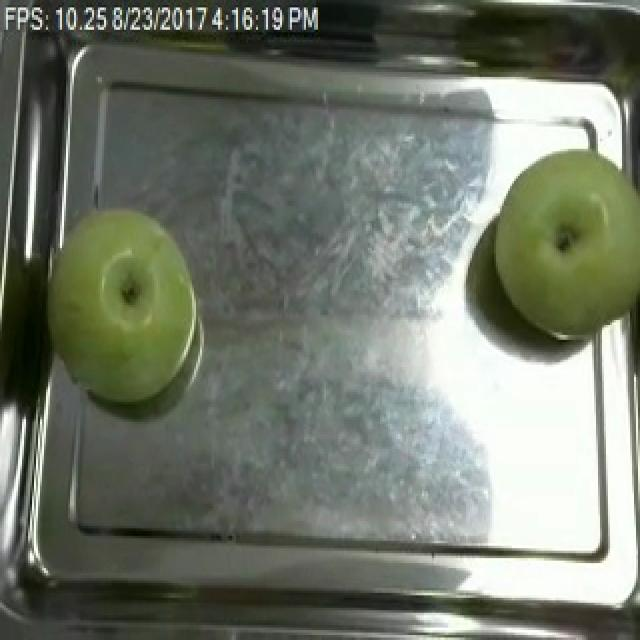50-_ripeness: (31, 192, 233, 425), (498, 146, 640, 350)
